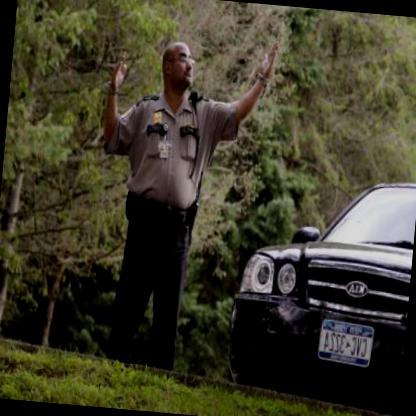car: (231, 166, 415, 413)
